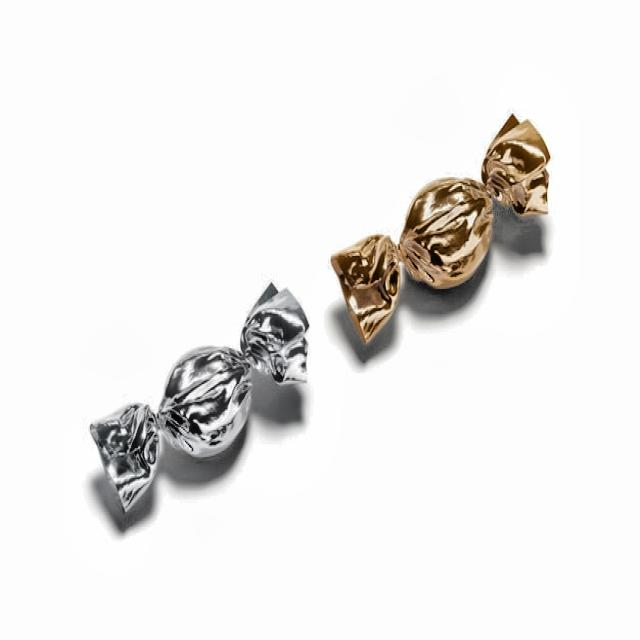Plastic: (71, 275, 323, 532), (328, 97, 560, 354)
